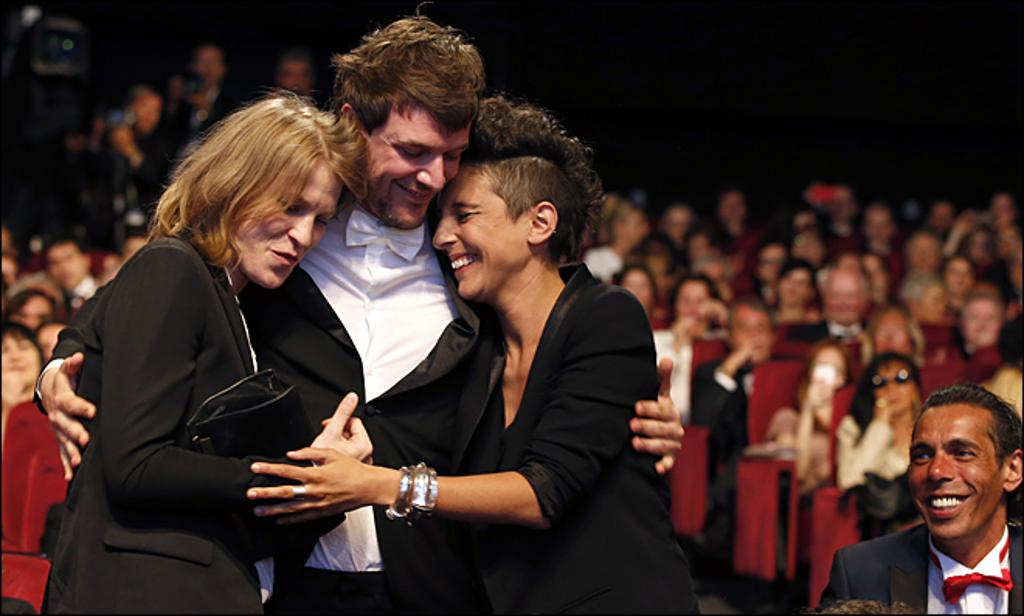face: (232, 161, 344, 289), (359, 108, 468, 229), (433, 166, 528, 297), (908, 405, 1002, 537), (872, 363, 916, 420), (0, 334, 39, 388), (732, 310, 769, 362), (824, 271, 862, 319), (11, 299, 51, 342), (48, 243, 86, 288), (812, 348, 847, 393), (676, 284, 709, 328), (40, 326, 75, 367), (875, 313, 908, 353), (965, 303, 998, 342), (918, 283, 949, 324), (862, 258, 890, 301), (909, 236, 939, 274), (839, 255, 865, 295), (759, 244, 787, 281), (779, 272, 807, 308), (280, 62, 310, 95), (196, 48, 224, 83), (792, 235, 821, 268), (620, 215, 647, 250), (135, 93, 161, 129), (625, 274, 650, 311), (718, 191, 745, 225), (947, 263, 973, 296), (970, 231, 994, 265), (667, 212, 692, 244), (867, 210, 892, 240), (829, 193, 854, 222), (929, 204, 953, 234), (110, 127, 133, 157), (691, 239, 714, 269), (997, 228, 1018, 259), (794, 213, 815, 241), (993, 196, 1014, 223)
